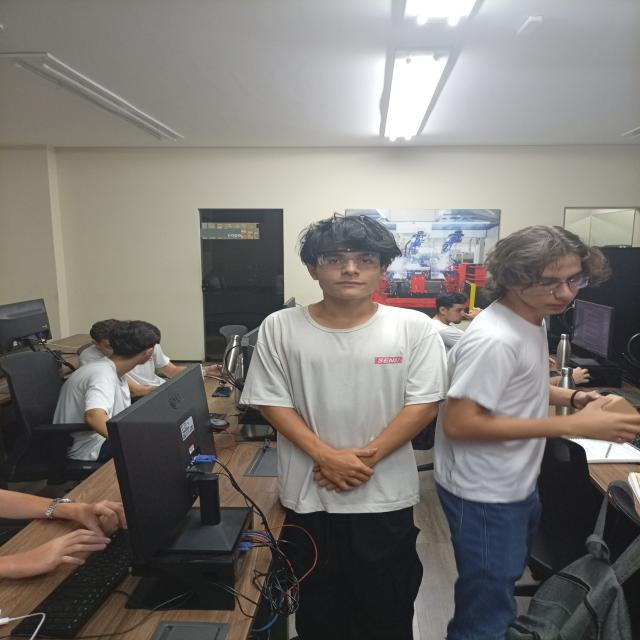oculos-epi: (318, 250, 381, 270)
sem_oculos: (508, 262, 602, 292), (450, 303, 466, 317), (99, 341, 111, 353)
